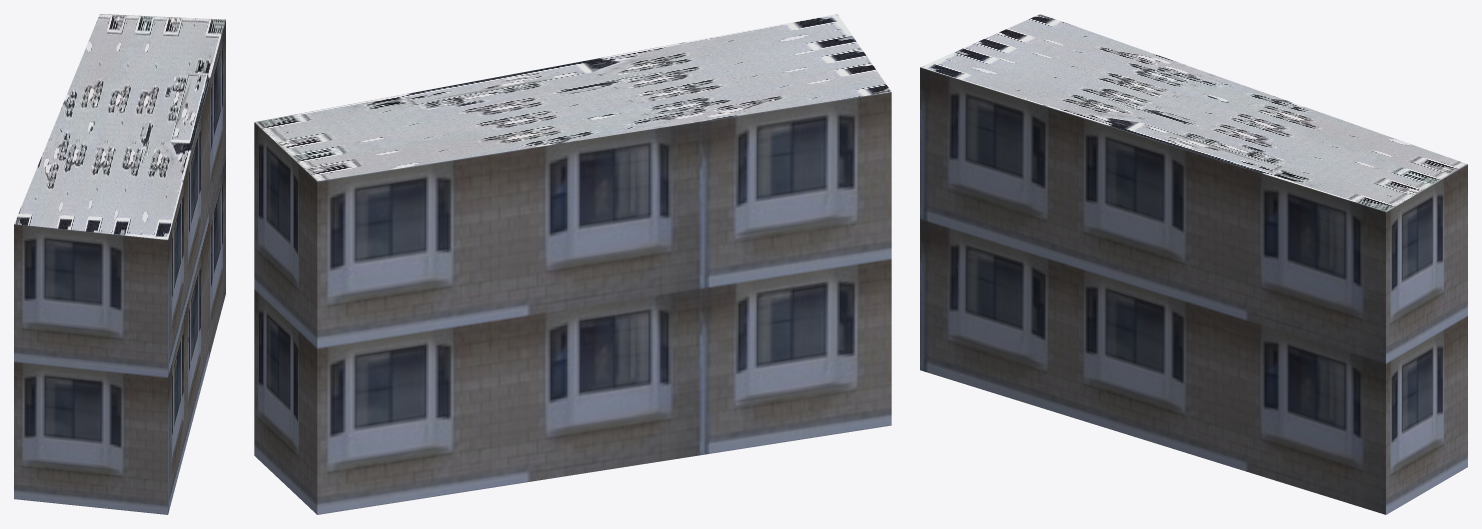
The model's file is ResTex__4524.fbx.
3 views of the same model, side by side, from view 1: azimuth 30°, elevation 25°; view 2: azimuth 150°, elevation 25°; view 3: azimuth 270°, elevation 25° (orthographic). The views are drawn at different scales.
Parts seen in each view (by area): view 1: CityEngineMaterial_3_m, CityEngineMaterial_8_m; view 2: CityEngineMaterial_3_m, CityEngineMaterial_8_m; view 3: CityEngineMaterial_3_m, CityEngineMaterial_8_m.
Part boxes in pixels (x1,y1,x2,y2): CityEngineMaterial_3_m: (14, 20, 225, 514); CityEngineMaterial_8_m: (14, 14, 225, 239); CityEngineMaterial_3_m: (254, 92, 891, 514); CityEngineMaterial_8_m: (254, 14, 891, 181); CityEngineMaterial_3_m: (920, 67, 1467, 514); CityEngineMaterial_8_m: (920, 14, 1467, 211).
Bounding box in the file's own units: 8.41 × 6 × 9.83.
2 materials, 2 textured.
